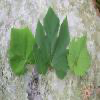grape leaf: (32, 6, 74, 78), (7, 21, 37, 76), (66, 32, 95, 78)
